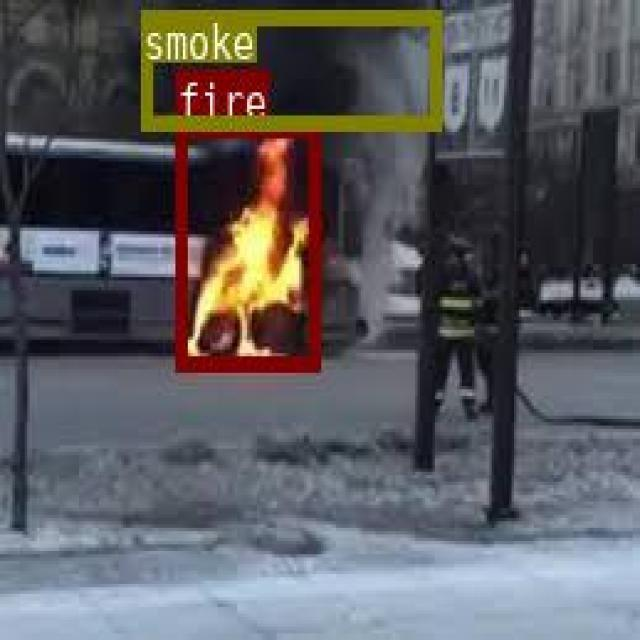fire: (175, 122, 319, 368)
smoke: (140, 8, 439, 128)
